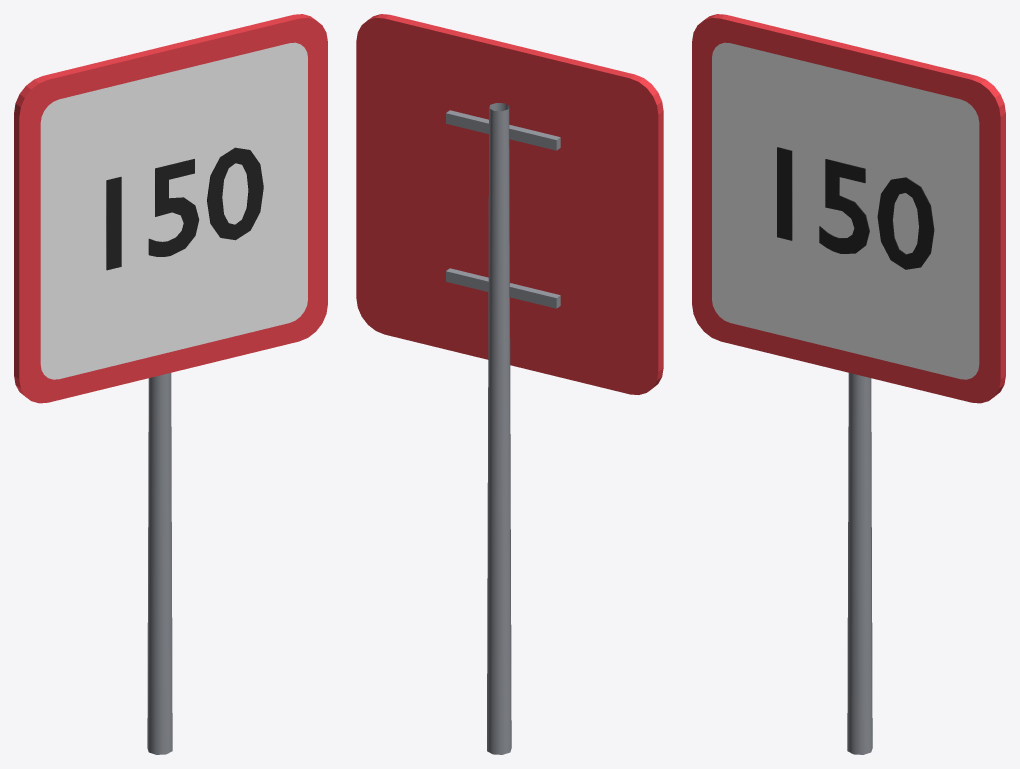
Rendered from placa_150.glb.
3 views of the same model, side by side, from view 1: azimuth 30°, elevation 25°; view 2: azimuth 150°, elevation 25°; view 3: azimuth 330°, elevation 25° (orthographic). The views are drawn at different scales.
Parts seen in each view (by area): view 1: branco, vermelho, metal, t; view 2: vermelho, metal; view 3: branco, vermelho, metal, t.
Part boxes in pixels (x1,y1,x2,y2): branco: (40,42,307,379); vermelho: (14,14,327,403); metal: (147,373,172,754); t: (106,147,263,270); vermelho: (356,14,663,394); metal: (446,103,560,754); branco: (712,42,979,379); vermelho: (692,14,1005,403); metal: (847,373,872,754); t: (777,147,934,269).
Bounding box in the file's own units: 3 × 6.6 × 0.362.
